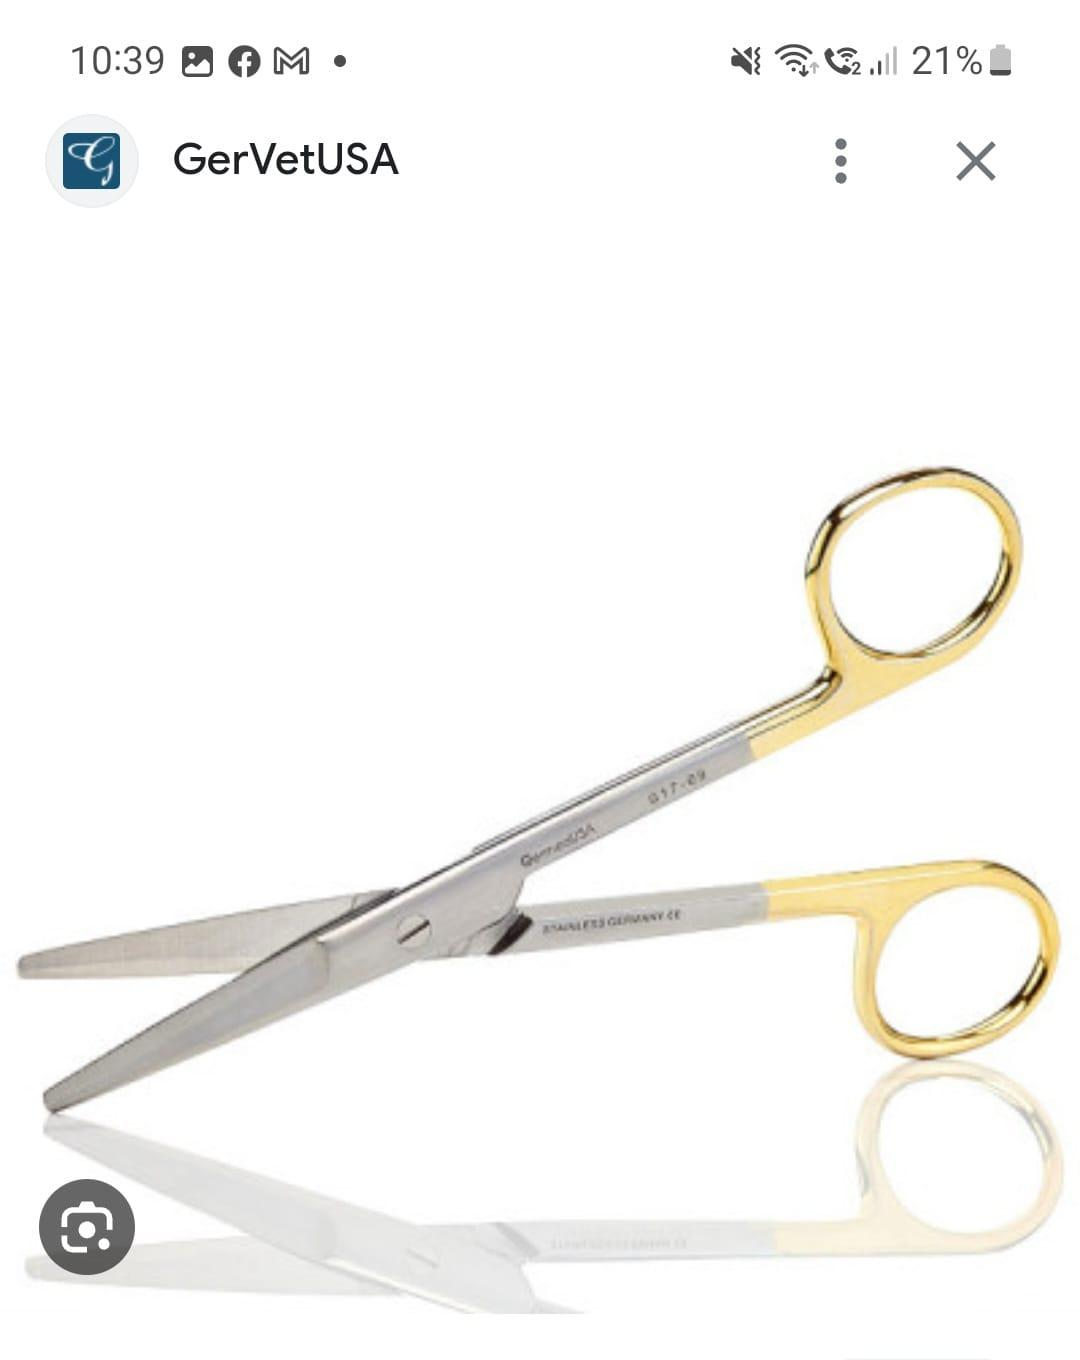Straight Mayo: (2, 448, 1080, 1128)
